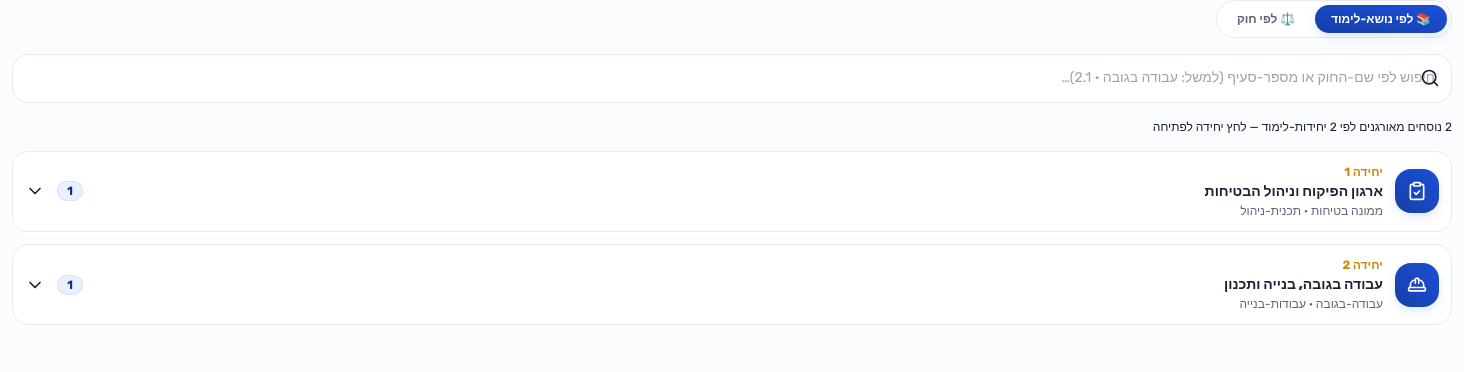
Test: LegislationLibrary — תצוגת-חוק + קישורים + חיפוש › חיפוש לפי כותרת מסנן פריטים (בתצוגת-נושא)
Type "גובה" into the search field named "חיפוש חוק או תקנה". click: (732, 78)
box: [12, 54, 1452, 103]
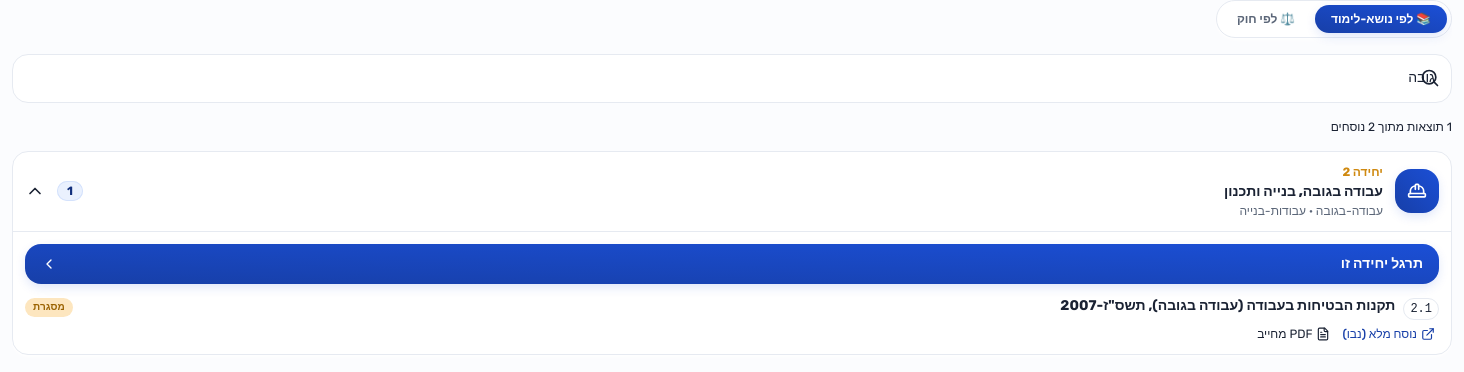
Expected: the list item with test id "legislation-item-2.1" is shown, [25, 284, 1439, 354]
Expected: the text "1 תוצאות מתוך 2 נוסחים" is shown, [1331, 120, 1452, 134]
